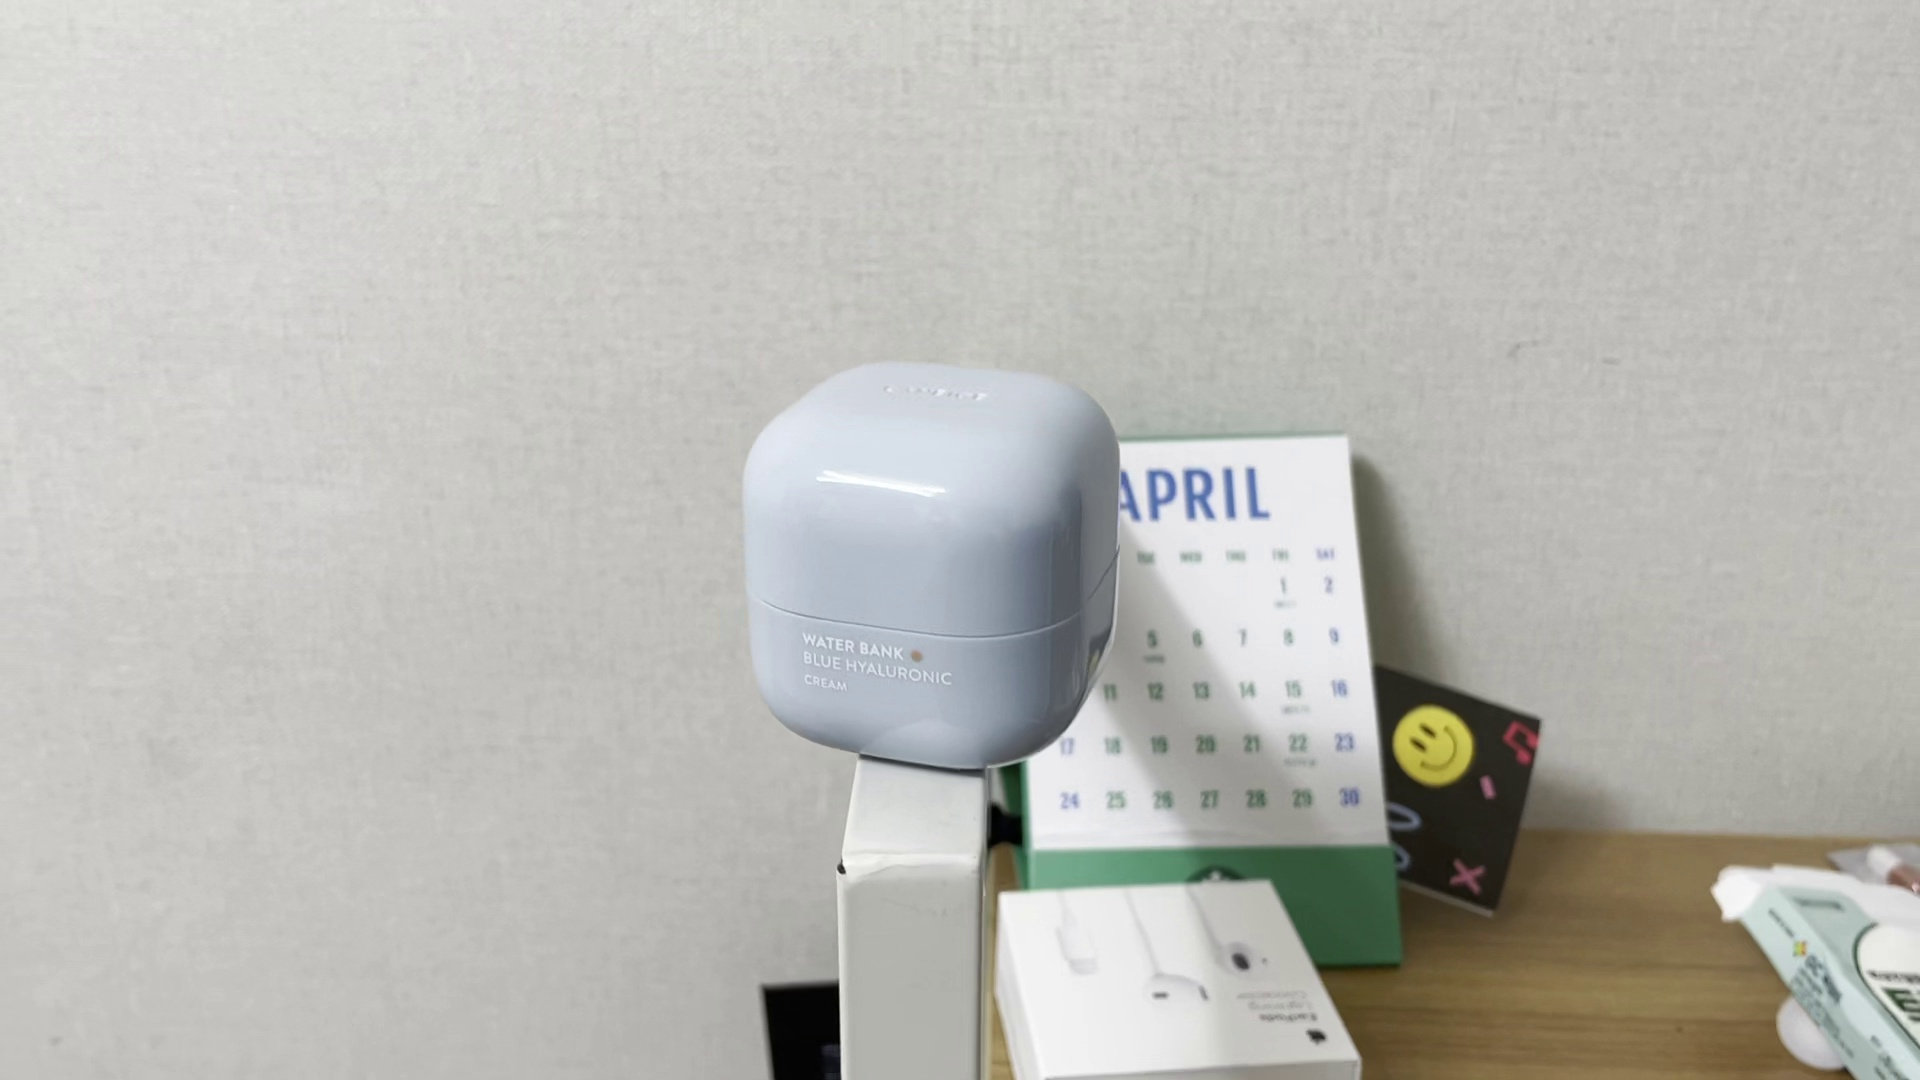cream: (738, 364, 1126, 770)
